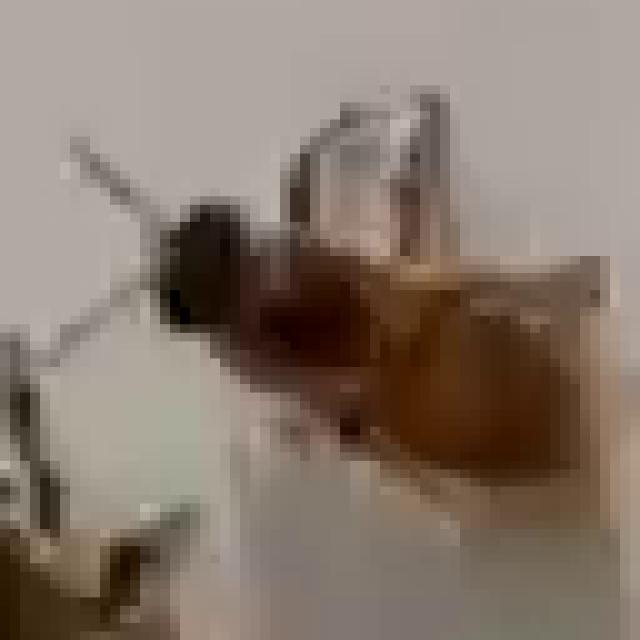honeybee: (94, 100, 600, 502)
